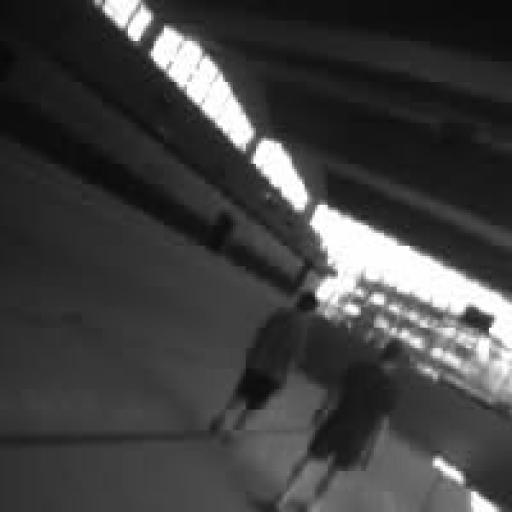human: (277, 341, 404, 509), (210, 292, 317, 435)
